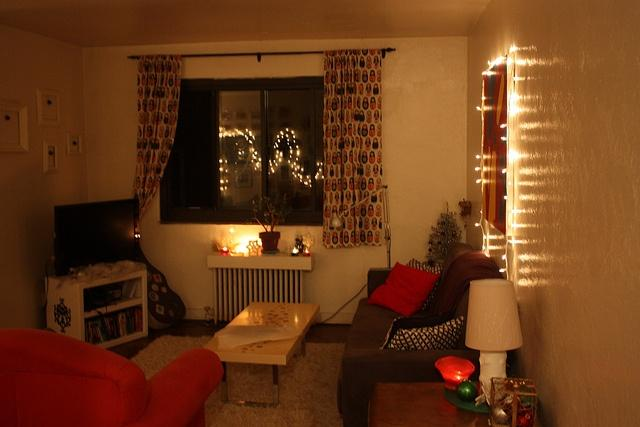AIO PC-Monitor-TV: (53, 194, 139, 275)
Meja: (203, 301, 321, 406)
Rak: (79, 269, 145, 349)
